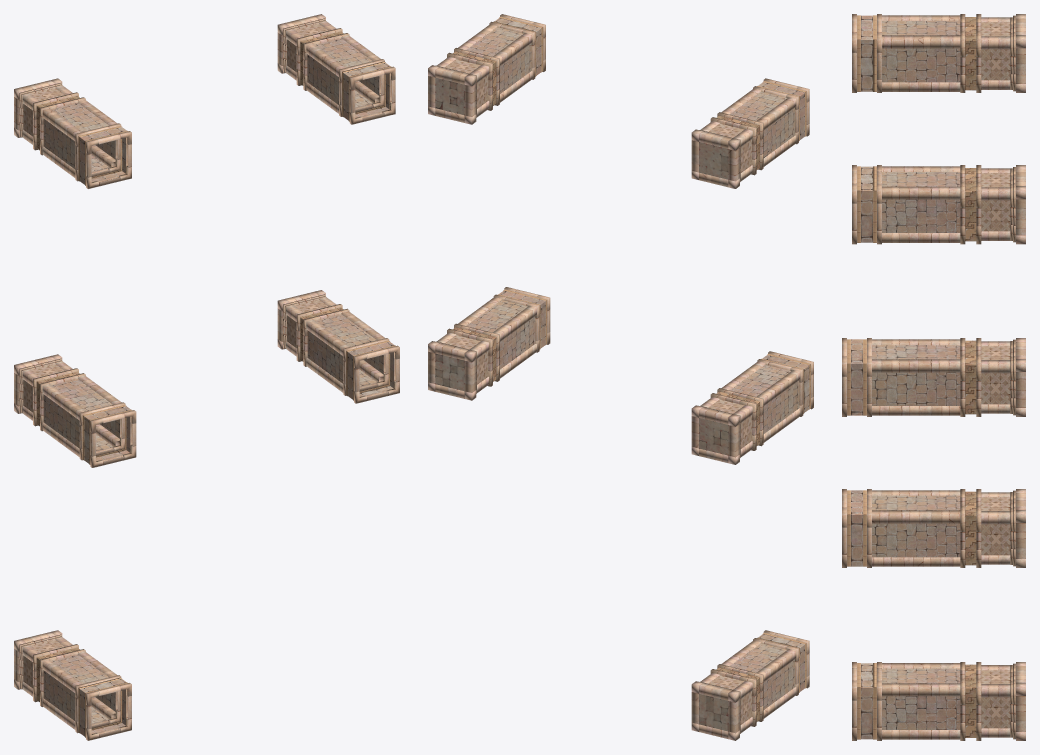
The model's file is StonePillar000.obj.
3 views of the same model, side by side, from view 1: azimuth 30°, elevation 25°; view 2: azimuth 150°, elevation 25°; view 3: azimuth 270°, elevation 25° (orthographic). The views are drawn at different scales.
Parts seen in each view (by area): view 1: Edge00_Low451_1__EdgeStoneBlock03, pCube4810_1__WallBrickBase04, polySurface455_1__EdgeStoneBlock02, pCube4817_1__ReliefStonePattern07, pPlane66_1__ReliefStoneCross01, Relief3_1__ReliefStonePattern01, pCube5812_1__StonePillar00; view 2: Edge00_Low451_1__EdgeStoneBlock03, pCube4810_1__WallBrickBase04, Roof31_1__FloorStoneBase02, polySurface455_1__EdgeStoneBlock02, pPlane66_1__ReliefStoneCross01, pCube5812_1__StonePillar00, pCube4817_1__ReliefStonePattern07, Relief3_1__ReliefStonePattern01; view 3: Edge00_Low451_1__EdgeStoneBlock03, pCube4810_1__WallBrickBase04, pPlane66_1__ReliefStoneCross01, polySurface455_1__EdgeStoneBlock02, Relief3_1__ReliefStonePattern01, pCube4817_1__ReliefStonePattern07, pCube5812_1__StonePillar00.
Part boxes in pixels (left/top/right/bottom): Edge00_Low451_1__EdgeStoneBlock03: left=14, top=16, right=399, bottom=740; pCube4810_1__WallBrickBase04: left=43, top=38, right=394, bottom=736; polySurface455_1__EdgeStoneBlock02: left=19, top=22, right=399, bottom=738; pCube4817_1__ReliefStonePattern07: left=78, top=61, right=396, bottom=737; pPlane66_1__ReliefStoneCross01: left=23, top=24, right=328, bottom=688; Relief3_1__ReliefStonePattern01: left=36, top=31, right=343, bottom=701; pCube5812_1__StonePillar00: left=14, top=14, right=325, bottom=689; Edge00_Low451_1__EdgeStoneBlock03: left=428, top=14, right=813, bottom=738; pCube4810_1__WallBrickBase04: left=466, top=18, right=809, bottom=709; Roof31_1__FloorStoneBase02: left=435, top=77, right=728, bottom=731; polySurface455_1__EdgeStoneBlock02: left=448, top=16, right=813, bottom=720; pPlane66_1__ReliefStoneCross01: left=445, top=59, right=751, bottom=724; pCube5812_1__StonePillar00: left=428, top=65, right=739, bottom=740; pCube4817_1__ReliefStonePattern07: left=493, top=16, right=810, bottom=692; Relief3_1__ReliefStonePattern01: left=453, top=51, right=759, bottom=721; Edge00_Low451_1__EdgeStoneBlock03: left=842, top=14, right=1025, bottom=740; pCube4810_1__WallBrickBase04: left=851, top=15, right=960, bottom=739; pPlane66_1__ReliefStoneCross01: left=981, top=22, right=1010, bottom=728; polySurface455_1__EdgeStoneBlock02: left=842, top=20, right=1015, bottom=727; Relief3_1__ReliefStonePattern01: left=965, top=17, right=976, bottom=737; pCube4817_1__ReliefStonePattern07: left=847, top=15, right=876, bottom=739; pCube5812_1__StonePillar00: left=1016, top=14, right=1025, bottom=740.
Bounding box in the file's own units: 4200 × 7800 × 1850.
10 materials, 9 textured.
